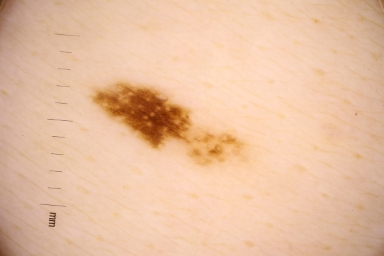nevus: (90, 83, 190, 149), (188, 132, 252, 167)
